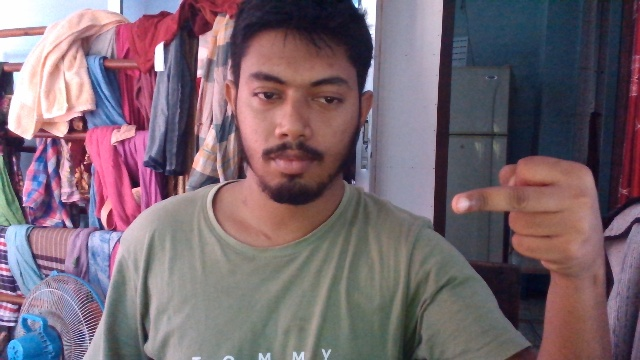fucku: (440, 155, 613, 274)
